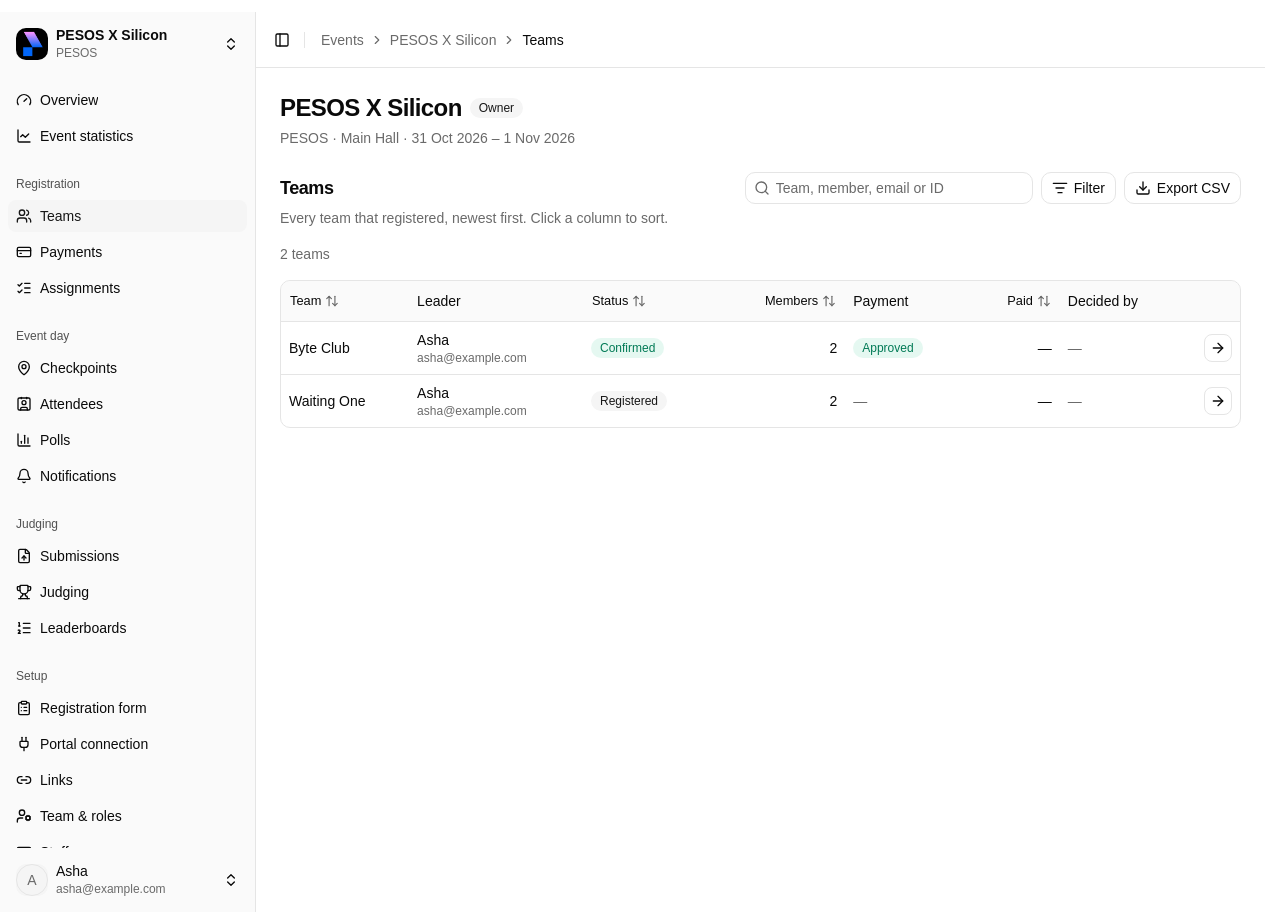
Test case: teams › lists and filters teams, linking to each
Expected: the link "Byte Club" is shown, [289,340,350,356]
What coordinates should you click on to do the following:
click the button with aria-label "Show: "
I would click on:
 (1078, 188)
Its box is [1041,172,1116,204].
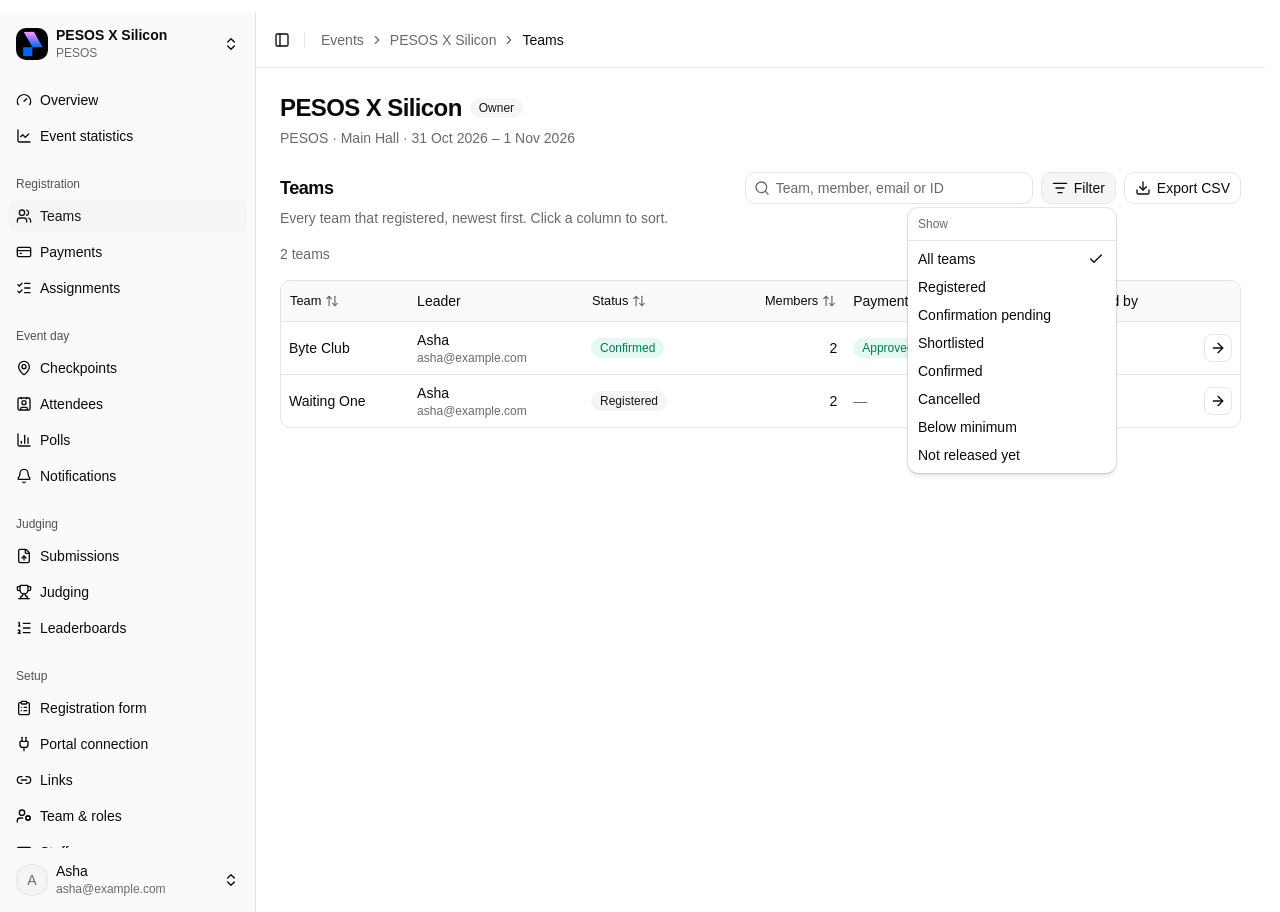
What coordinates should you click on to do the following:
click the menu item "Registered"
I would click on:
 (952, 287)
Its box is [918,279,986,295].
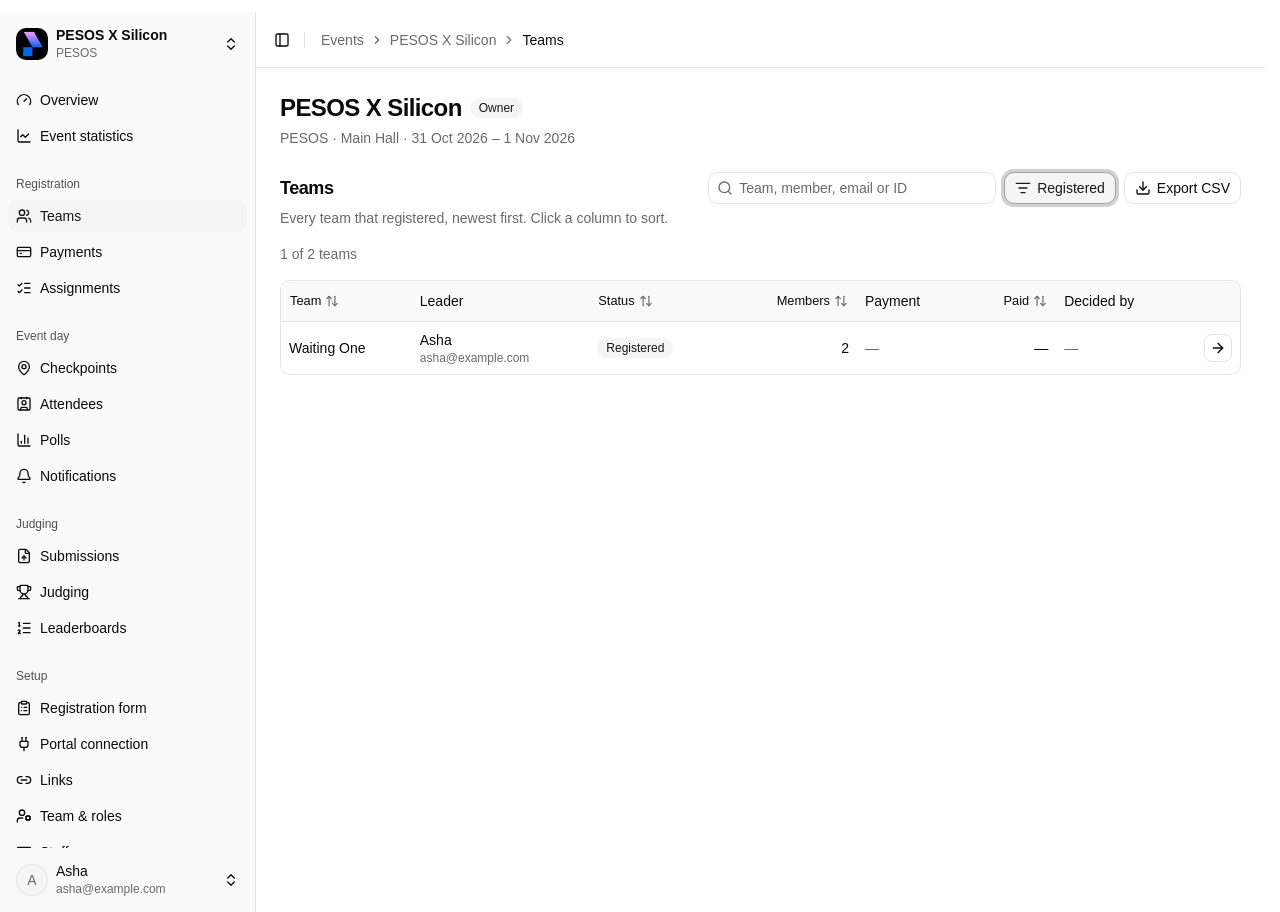
Expected: the link "Waiting One" is shown, [289,340,366,356]
Expected: the link "Byte Club" is gone
What coordinates should you click on to do the following:
click the button with aria-label "Show: "
I would click on:
 (1060, 188)
Its box is [1004,172,1116,204].
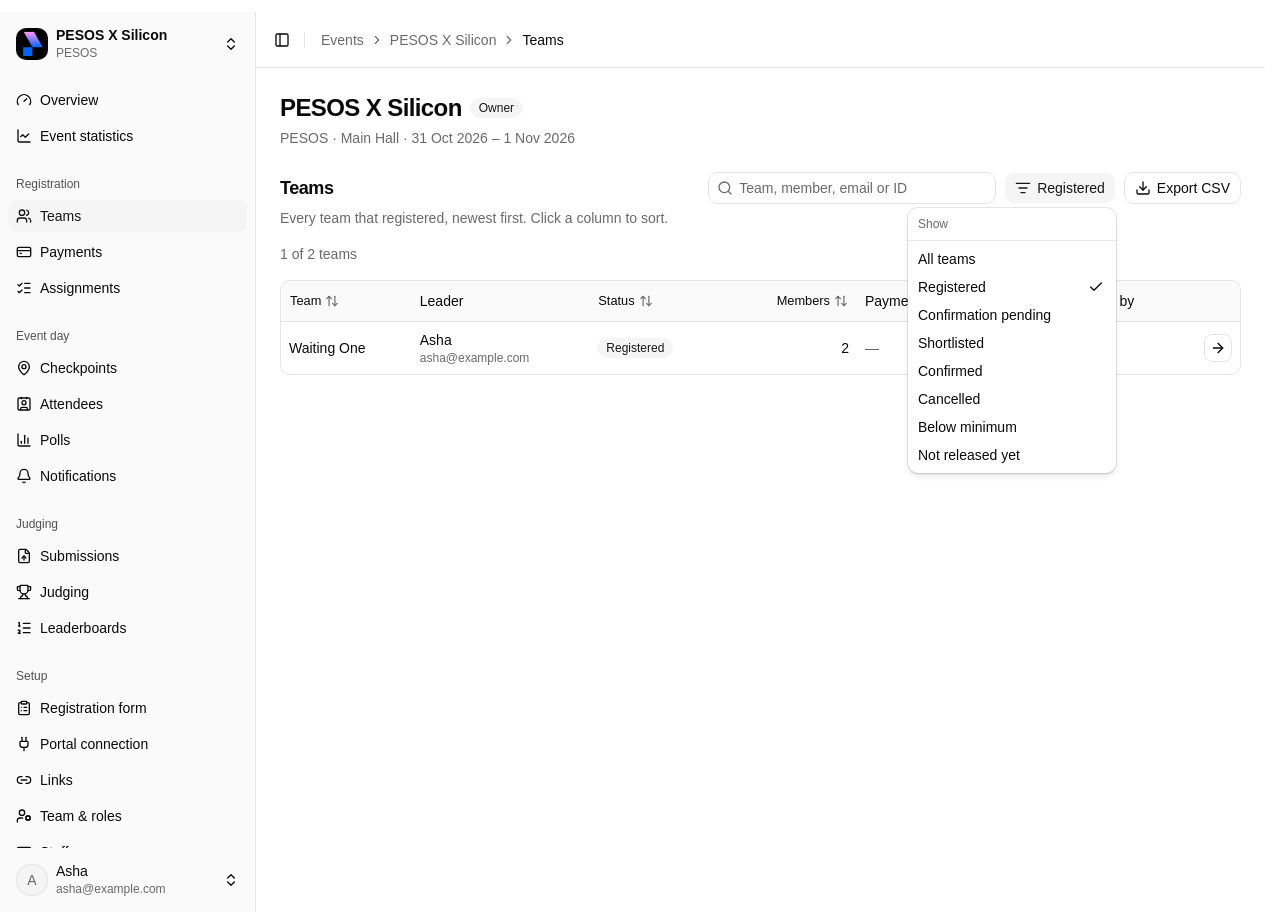
What coordinates should you click on to do the following:
click the menu item "Below minimum"
I would click on:
 (967, 427)
Its box is [918,419,1017,435].
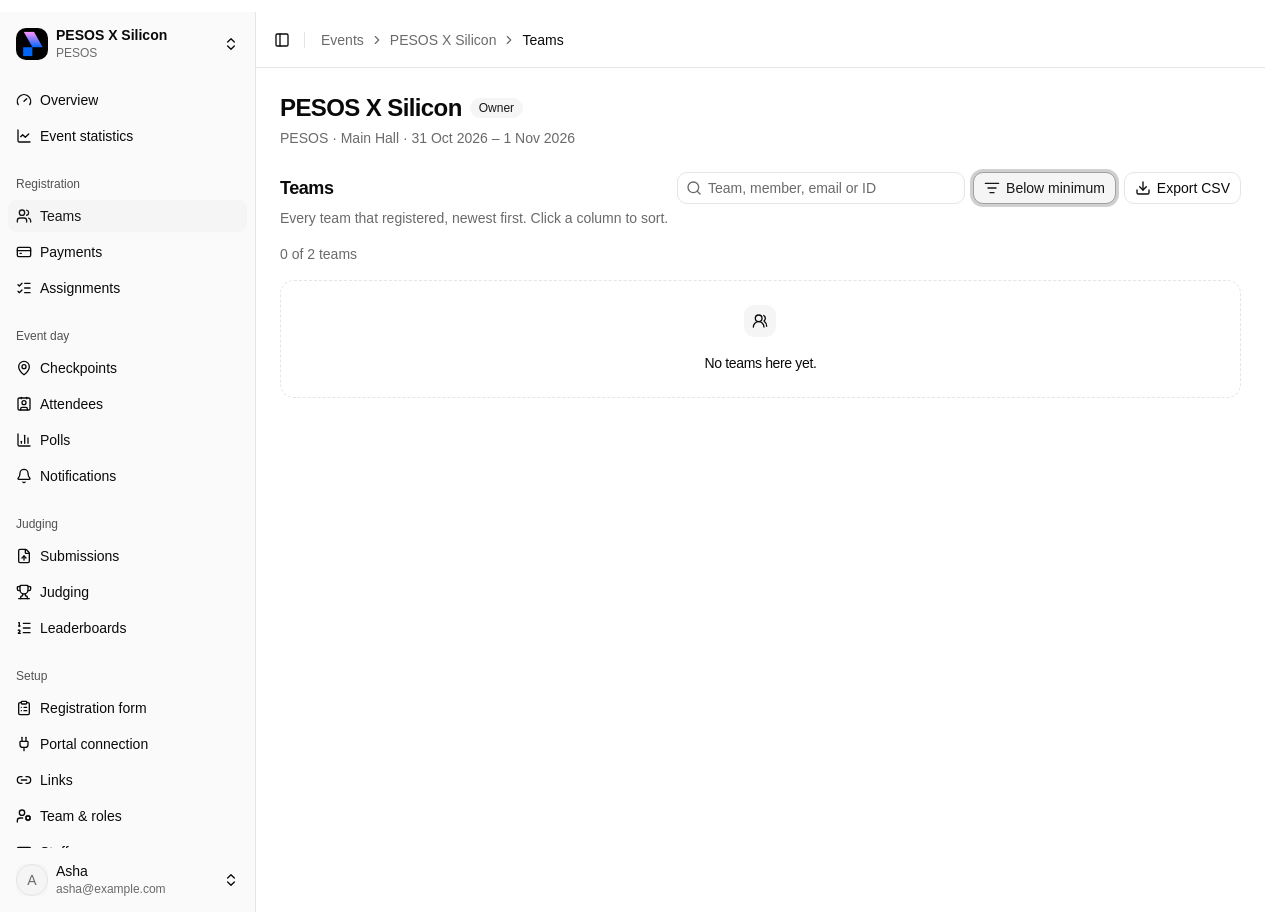
Expected: the text "No teams here yet." is shown, [704,353,816,373]
